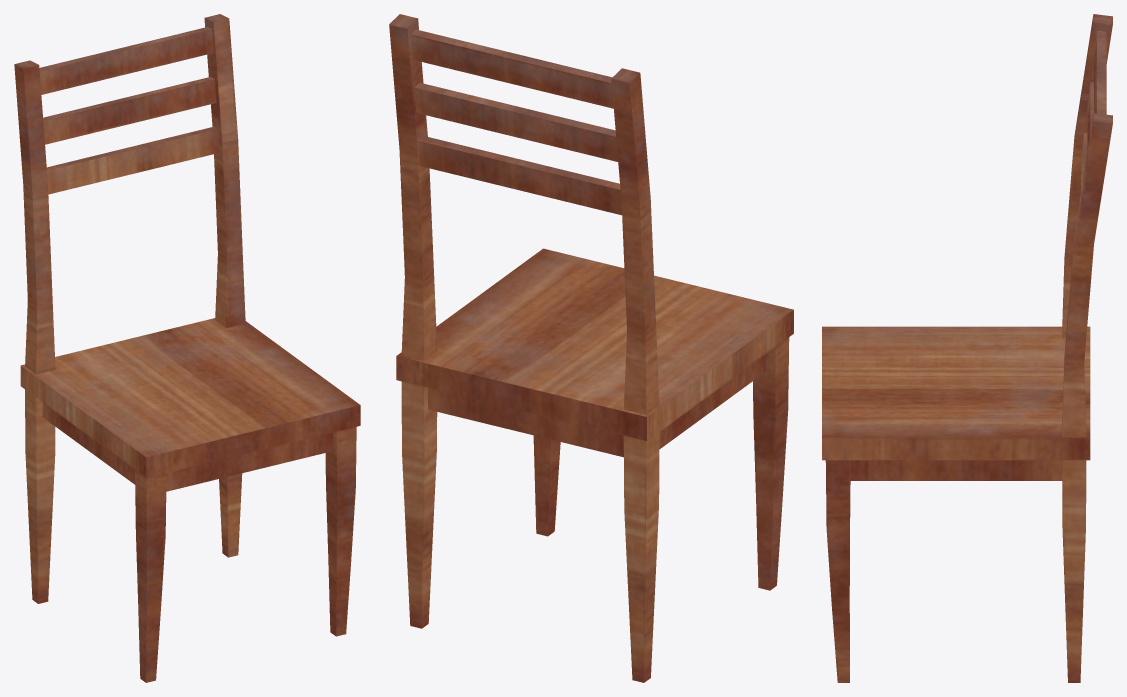
Rendered from sedia.glb.
3 views of the same model, side by side, from view 1: azimuth 30°, elevation 25°; view 2: azimuth 150°, elevation 25°; view 3: azimuth 270°, elevation 25° (orthographic). The views are drawn at different scales.
Visible parts, largest first — view 1: Sedia_1; view 2: Sedia_1; view 3: Sedia_1.
Part boxes in pixels (<box>): Sedia_1: <box>14,14,360,682</box>; Sedia_1: <box>389,14,793,682</box>; Sedia_1: <box>822,14,1112,682</box>.
Bounding box in the file's own units: 0.4 × 0.94 × 0.44.
1 material, 1 textured.
